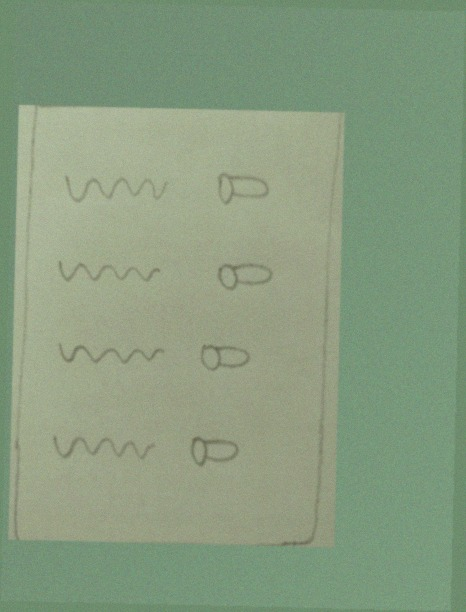switch: (192, 336, 262, 379), (210, 168, 279, 211), (186, 429, 255, 472), (210, 254, 279, 296)
text: (58, 166, 173, 210), (54, 248, 169, 292), (54, 332, 169, 376), (46, 422, 161, 466)
